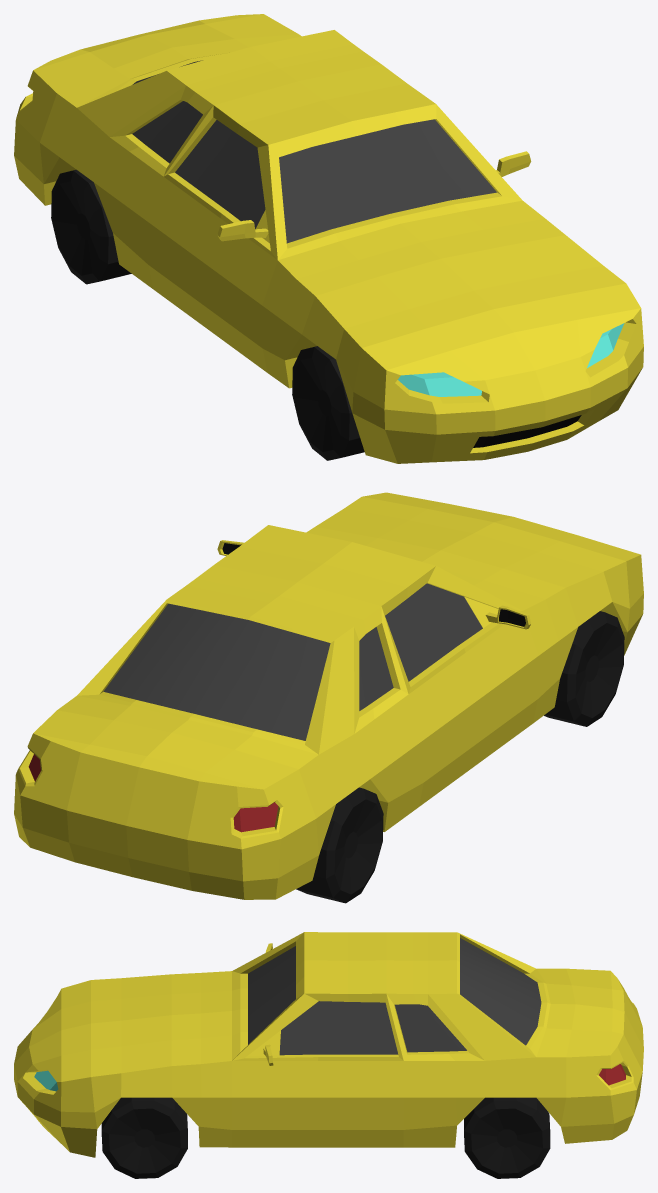
File: 5yellow.fbx
3 renders of one model, top to bottom at view 1: azimuth 30°, elevation 25°; view 2: azimuth 150°, elevation 25°; view 3: azimuth 270°, elevation 25°, orthographic. The views are drawn at different scales.
Parts seen in each view (by area): view 1: Cube; view 2: Cube; view 3: Cube.
Part boxes in pixels (box(x1,y1,x2,y2)): Cube: box(14, 14, 643, 463); Cube: box(14, 492, 643, 903); Cube: box(14, 932, 643, 1178).
Size of the model in its own units: 122 by 83.59 by 284.
